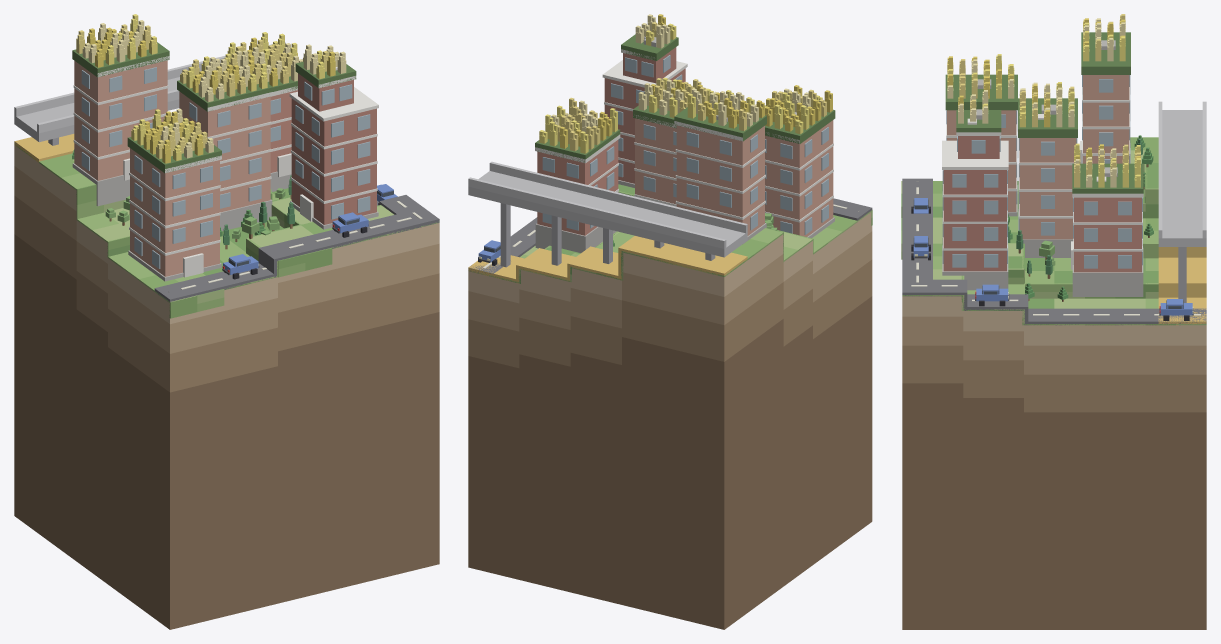
The model's file is block_7_urbanfarm_50.glb.
3 renders of one model, left to right at view 1: azimuth 30°, elevation 25°; view 2: azimuth 150°, elevation 25°; view 3: azimuth 270°, elevation 25°, orthographic. The views are drawn at different scales.
Visible parts, largest first — view 1: Patch_UpperLeft_b04_UF, Res_UL_09_UF, Res_UL_06_UF, Res_UL_05_UF, Green_UpperLeft_j4_b04_UF, Res_UL_08_UF, Roads_UpperLeft_b04_UF, Bridge_UpperLeft_b04_UF, Res_UL_07_UF, UFR_Res_UL_05_UF, Paver_UpperLeft_b04_UF, UFR_Res_UL_06_UF (+4 smaller); view 2: Patch_UpperLeft_b04_UF, Bridge_UpperLeft_b04_UF, Res_UL_05_UF, Res_UL_06_UF, Paver_UpperLeft_b04_UF, Res_UL_09_UF, Res_UL_07_UF, Res_UL_08_UF, Green_UpperLeft_j4_b04_UF, Roads_UpperLeft_b04_UF, UFR_Res_UL_05_UF, UFR_Res_UL_06_UF (+2 smaller); view 3: Patch_UpperLeft_b04_UF, Res_UL_09_UF, Green_UpperLeft_j4_b04_UF, Res_UL_07_UF, Bridge_UpperLeft_b04_UF, Roads_UpperLeft_b04_UF, Res_UL_08_UF, Res_UL_05_UF, Paver_UpperLeft_b04_UF, Res_UL_06_UF, UFR_Res_UL_06_UF, UFR_Res_UL_08_UF (+6 smaller).
Part boxes in pixels (x1=…): Patch_UpperLeft_b04_UF: x1=14, y1=145, x2=439, y2=629; Res_UL_09_UF: x1=289, y1=67, x2=378, y2=229; Res_UL_06_UF: x1=128, y1=148, x2=221, y2=281; Res_UL_05_UF: x1=72, y1=56, x2=169, y2=206; Green_UpperLeft_j4_b04_UF: x1=15, y1=144, x2=439, y2=318; Res_UL_08_UF: x1=179, y1=83, x2=272, y2=231; Roads_UpperLeft_b04_UF: x1=154, y1=195, x2=439, y2=301; Bridge_UpperLeft_b04_UF: x1=14, y1=42, x2=302, y2=145; Res_UL_07_UF: x1=270, y1=86, x2=297, y2=191; UFR_Res_UL_05_UF: x1=72, y1=42, x2=169, y2=77; Paver_UpperLeft_b04_UF: x1=14, y1=134, x2=74, y2=162; UFR_Res_UL_06_UF: x1=127, y1=137, x2=221, y2=173; Patch_UpperLeft_b04_UF: x1=468, y1=212, x2=872, y2=629; Bridge_UpperLeft_b04_UF: x1=468, y1=161, x2=747, y2=267; Res_UL_05_UF: x1=674, y1=115, x2=766, y2=243; Res_UL_06_UF: x1=765, y1=112, x2=834, y2=238; Paver_UpperLeft_b04_UF: x1=468, y1=236, x2=747, y2=283; Res_UL_09_UF: x1=602, y1=36, x2=687, y2=187; Res_UL_07_UF: x1=535, y1=134, x2=620, y2=252; Res_UL_08_UF: x1=633, y1=115, x2=676, y2=206; Green_UpperLeft_j4_b04_UF: x1=469, y1=184, x2=872, y2=283; Roads_UpperLeft_b04_UF: x1=468, y1=198, x2=872, y2=273; UFR_Res_UL_05_UF: x1=674, y1=107, x2=766, y2=141; UFR_Res_UL_06_UF: x1=765, y1=109, x2=835, y2=143; Patch_UpperLeft_b04_UF: x1=902, y1=296, x2=1206, y2=629; Res_UL_09_UF: x1=942, y1=109, x2=1008, y2=290; Green_UpperLeft_j4_b04_UF: x1=901, y1=137, x2=1206, y2=325; Res_UL_07_UF: x1=1071, y1=167, x2=1143, y2=296; Bridge_UpperLeft_b04_UF: x1=1158, y1=101, x2=1206, y2=302; Roads_UpperLeft_b04_UF: x1=902, y1=178, x2=1206, y2=325; Res_UL_08_UF: x1=1018, y1=104, x2=1077, y2=257; Res_UL_05_UF: x1=1080, y1=40, x2=1130, y2=163; Paver_UpperLeft_b04_UF: x1=1158, y1=247, x2=1206, y2=325; Res_UL_06_UF: x1=946, y1=79, x2=1017, y2=216; UFR_Res_UL_06_UF: x1=945, y1=74, x2=1017, y2=110; UFR_Res_UL_08_UF: x1=1018, y1=98, x2=1077, y2=137.
Bounding box in the file's own units: 9.5 × 17.28 × 9.53.
